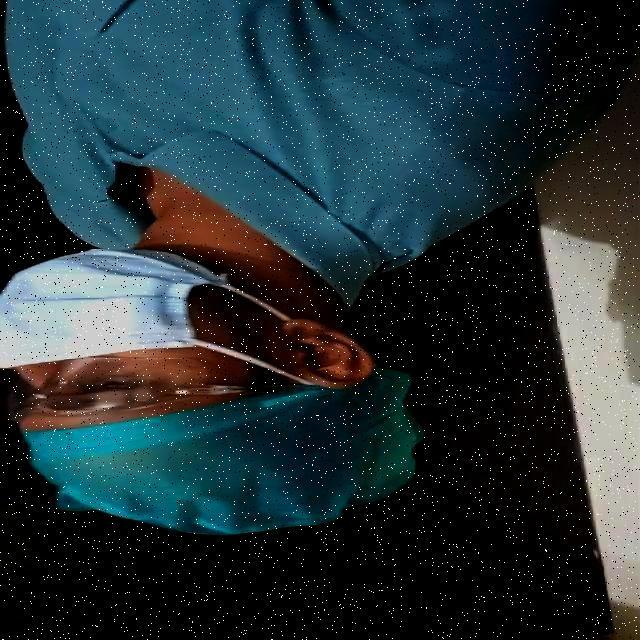gloves: (47, 364, 425, 536)
mask: (7, 240, 195, 384)
